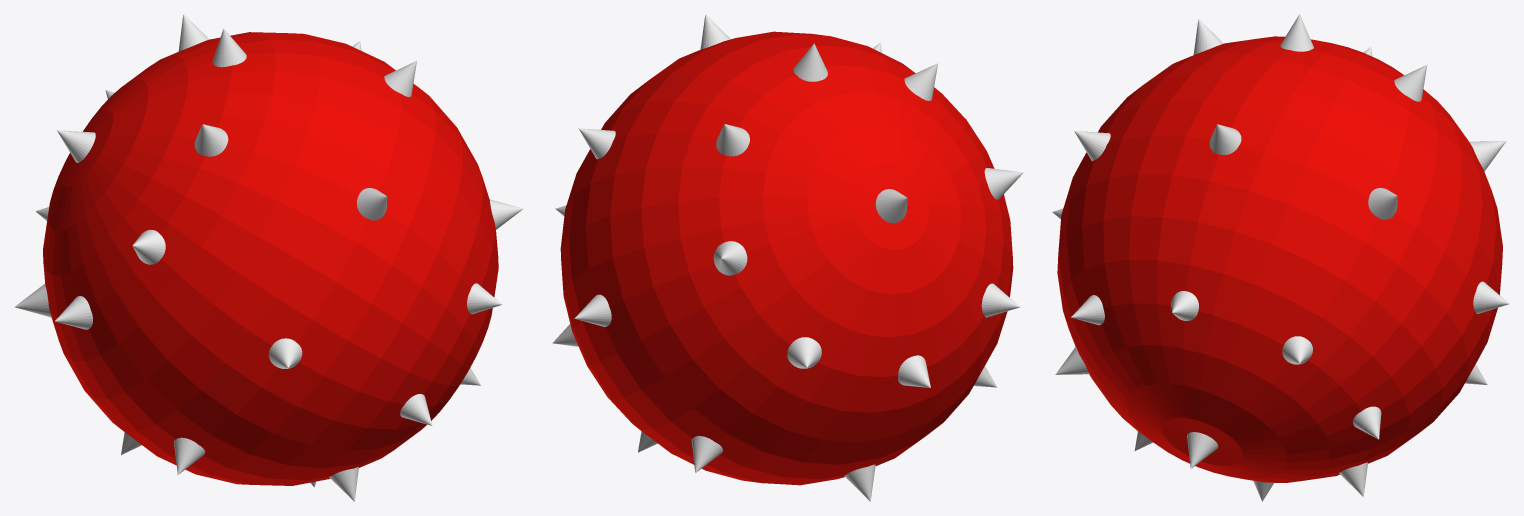
Rendered from SpikeBall.fbx.
3 renders of one model, left to right at view 1: azimuth 30°, elevation 25°; view 2: azimuth 150°, elevation 25°; view 3: azimuth 270°, elevation 25°, orthographic. The views are drawn at different scales.
Visible parts, largest first — view 1: Sphere, Cone.003; view 2: Sphere, Cone.003; view 3: Sphere, Cone.003.
Part boxes in pixels (x1,y1,x2,y2): Sphere: (43, 32, 498, 485); Cone.003: (14, 14, 523, 501); Sphere: (560, 31, 1013, 485); Cone.003: (552, 14, 1023, 501); Sphere: (1057, 36, 1502, 482); Cone.003: (1052, 14, 1509, 501).
Bounding box in the file's own units: 263 × 260 × 238.
